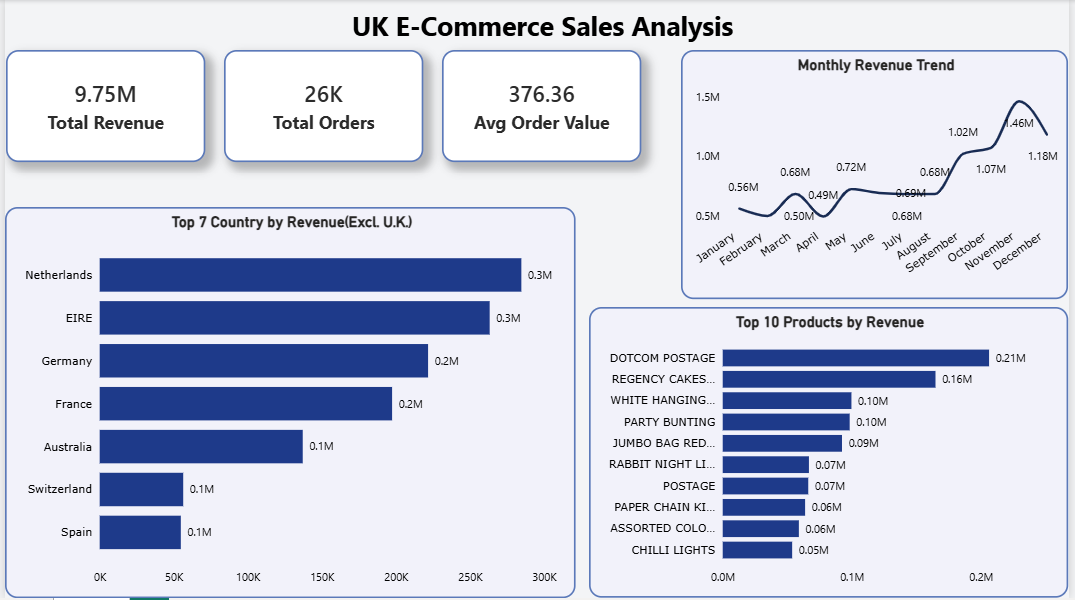

The dashboard page shown, as its layout file describes it:
{"tool":"powerbi","page":{"name":"Page 1","canvas":[1280,720],"ordinal":0},"visuals":[{"type":"cardVisual","fields":{"Data":["public vw_ecommerce_clean.Total Orders"]},"box":[264,60,240,134.7],"z":0},{"type":"cardVisual","fields":{"Data":["public vw_ecommerce_clean.Total Revenue"]},"box":[1.3,60,240,134.7],"z":1000},{"type":"cardVisual","fields":{"Data":["public vw_ecommerce_clean.Average Order Value"]},"box":[526.7,60,240,134.7],"z":2000},{"type":"textbox","box":[230.7,4,832,56],"z":3000},{"type":"lineChart","title":"Monthly Revenue Trend","fields":{"Category":["public vw_ecommerce_clean.invoice_date.Variation.Date Hierarchy.Month"],"Y":["public vw_ecommerce_clean.Total Revenue"]},"box":[813.9,60.2,466,299.8],"z":4000},{"type":"clusteredBarChart","title":"Top 10 Products by Revenue","fields":{"Category":["public vw_ecommerce_clean.description"],"Y":["public vw_ecommerce_clean.Total Revenue"]},"box":[703.1,369.6,576.7,350.4],"z":5000},{"type":"clusteredBarChart","title":"Top 7 Country by Revenue(Excl. U.K.)","fields":{"Category":["public vw_ecommerce_clean.country"],"Y":["public vw_ecommerce_clean.Total Revenue"]},"box":[0,249.3,686.7,470.7],"z":6000}]}

Visuals, with their boxes in screenshot pixels (x1, y1, x2, y2), scaled from the page's 1280x720 canvas onto the 1075x600 screenshot:
cardVisual - public vw_ecommerce_clean.Total Orders: <box>222,50,423,162</box>
cardVisual - public vw_ecommerce_clean.Total Revenue: <box>1,50,203,162</box>
cardVisual - public vw_ecommerce_clean.Average Order Value: <box>442,50,644,162</box>
textbox: <box>194,3,893,50</box>
"Monthly Revenue Trend" lineChart: <box>684,50,1074,300</box>
"Top 10 Products by Revenue" clusteredBarChart: <box>590,308,1074,599</box>
"Top 7 Country by Revenue(Excl. U.K.)" clusteredBarChart: <box>0,208,577,599</box>
